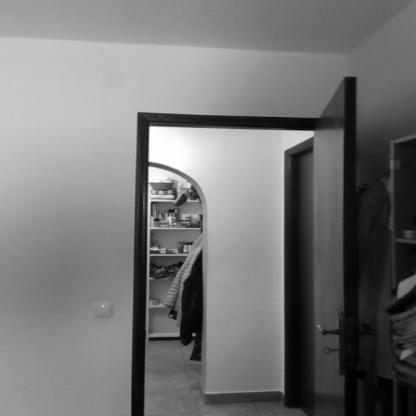door: (122, 73, 364, 415)
